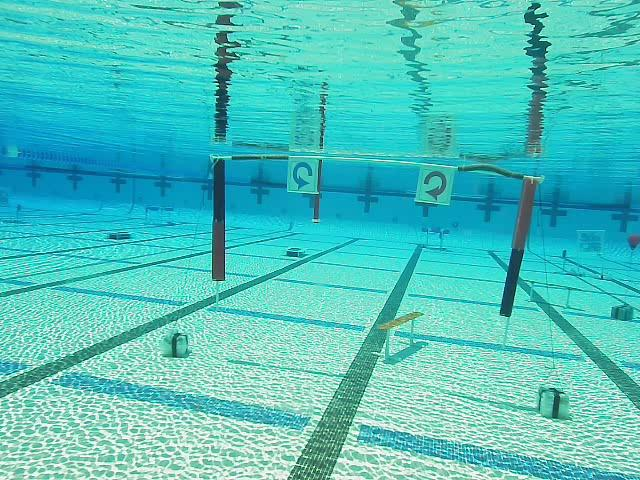buoy: (628, 233, 640, 251)
dropper: (105, 229, 132, 243), (284, 245, 306, 258)
gate: (211, 154, 543, 317)
gate_blue: (288, 159, 319, 193)
gate_leg_l: (211, 156, 228, 283)
gate_leg_r: (500, 175, 543, 317)
gate_red: (417, 167, 453, 204)
table: (419, 225, 449, 251)
torpedo: (577, 229, 605, 255)
